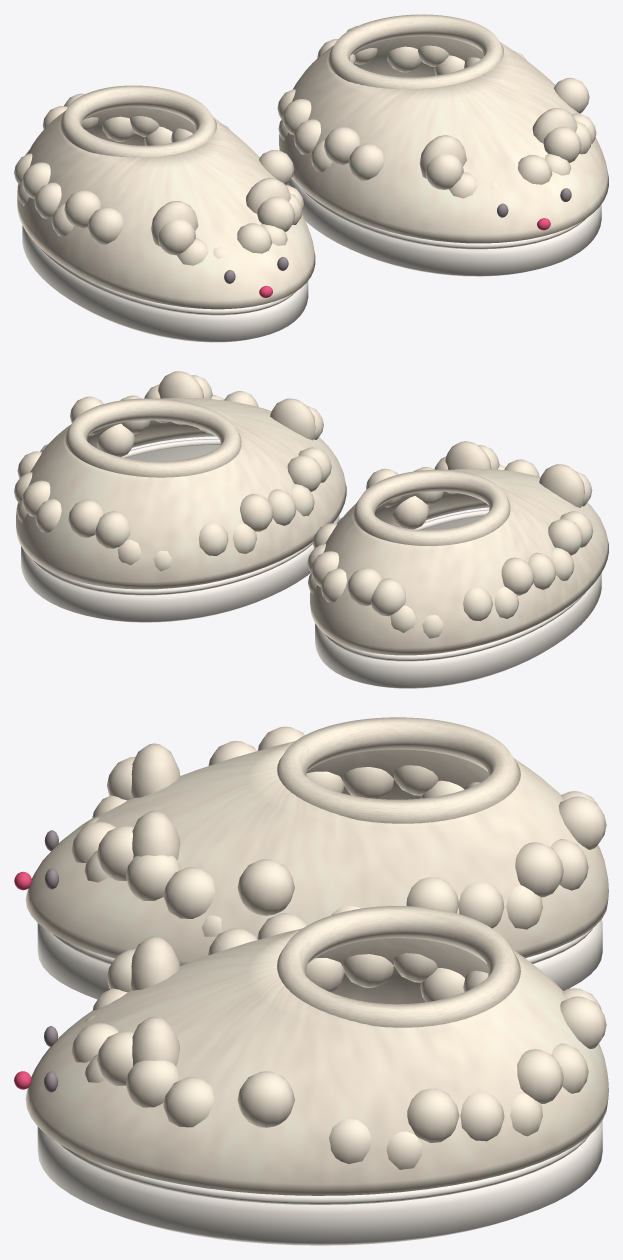
Rendered from restart_slippers_cloud_chick.glb.
The picture shows the model from 3 angles, top to bottom: view 1: azimuth 30°, elevation 25°; view 2: azimuth 150°, elevation 25°; view 3: azimuth 270°, elevation 25°; orthographic projection. The views are drawn at different scales.
Visible parts, largest first — view 1: Calzado · Left · slippers_cloud.003, Calzado · Right · slippers_cloud.003; view 2: Calzado · Left · slippers_cloud.003, Calzado · Right · slippers_cloud.003; view 3: Calzado · Left · slippers_cloud.003, Calzado · Right · slippers_cloud.003.
Part boxes in pixels (box(x1,y1,x2,y2)): Calzado · Left · slippers_cloud.003: box(277, 14, 608, 276); Calzado · Right · slippers_cloud.003: box(14, 85, 315, 342); Calzado · Left · slippers_cloud.003: box(14, 371, 346, 622); Calzado · Right · slippers_cloud.003: box(307, 441, 608, 688); Calzado · Left · slippers_cloud.003: box(14, 906, 608, 1245); Calzado · Right · slippers_cloud.003: box(14, 717, 608, 999).
Bounding box in the file's own units: 0.4946 × 0.124 × 0.3318.
4 materials, 2 textured.
